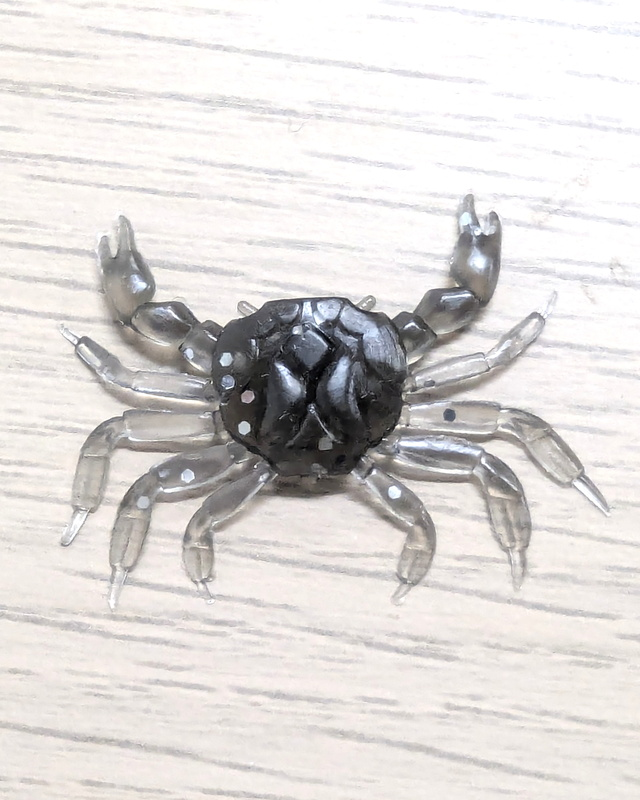crab1: (47, 187, 613, 601)
